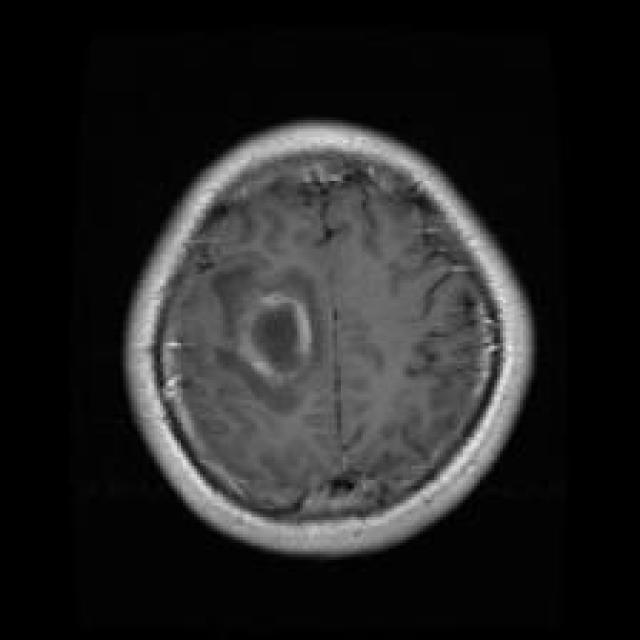glioma_tumor: (196, 255, 338, 426)
